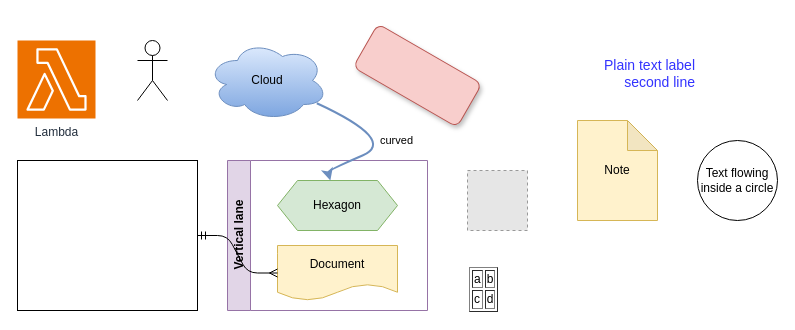
Image size: 795x330. Some labels were removed from this diagram. Grey dashed boxes stand in for pictures. The shapes that lost their labels are listed below. From the top down, each one's centre as x and y in pixels, then its label:
At [152,70]: "Actor".
At [418,76]: "Rotated 30°".
At [107,235]: "Bold italic under red big x 2 left block item one item two".
